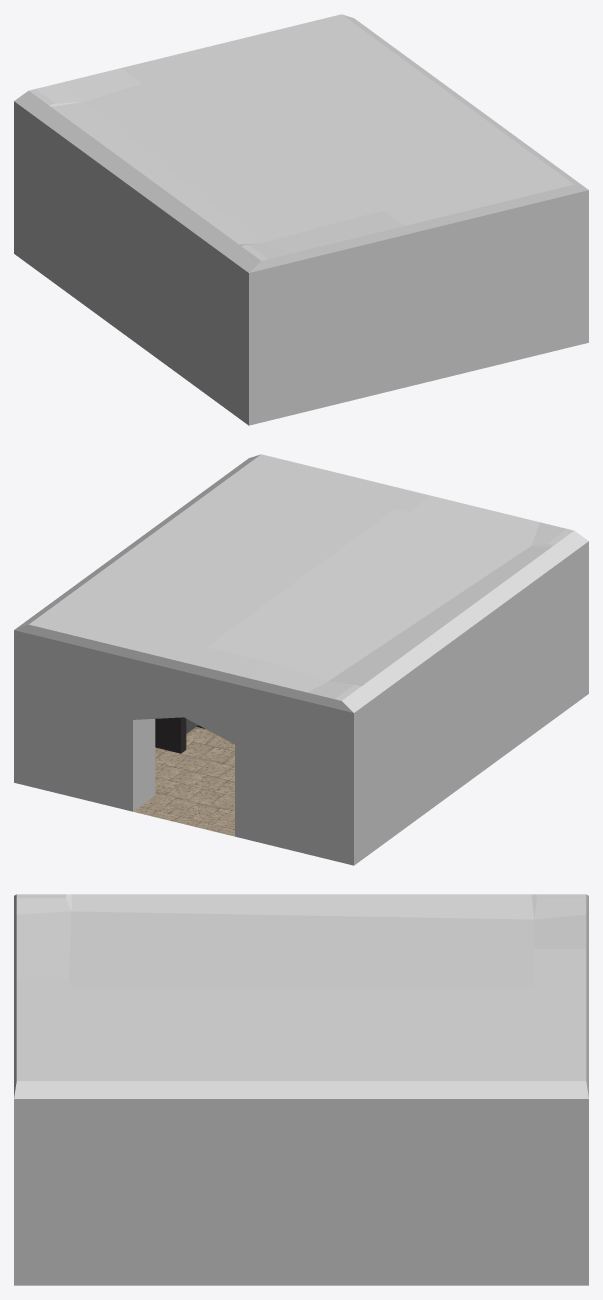
Rendered from toiletblock.fbx.
3 views of the same model, one above another, from view 1: azimuth 30°, elevation 25°; view 2: azimuth 150°, elevation 25°; view 3: azimuth 270°, elevation 25° (orthographic). The views are drawn at different scales.
Parts seen in each view (by area): view 1: Cube, Cube.001; view 2: Cube, Cube.001, Cubicle.004; view 3: Cube, Cube.001.
Part boxes in pixels (box(x1,y1,x2,y2)): Cube: box(14, 14, 588, 425); Cube.001: box(84, 38, 530, 243); Cube: box(14, 454, 588, 865); Cube.001: box(84, 475, 530, 680); Cubicle.004: box(155, 717, 204, 753); Cube: box(14, 894, 588, 1285); Cube.001: box(68, 911, 534, 1068).
Size of the model in its own units: 1861 by 861 by 2226.
